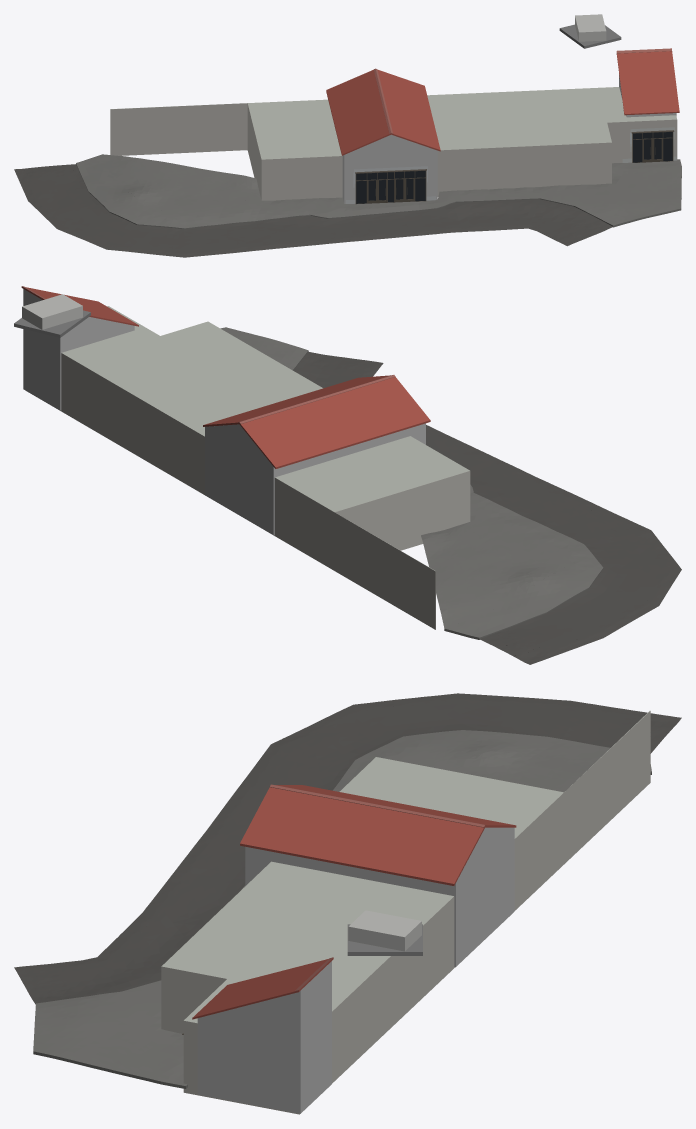
3 views of the same model, one above another, from view 1: azimuth 30°, elevation 25°; view 2: azimuth 150°, elevation 25°; view 3: azimuth 270°, elevation 25° (orthographic). The views are drawn at different scales.
Parts seen in each view (by area): view 1: Ice Arena L0 south strip (LiDAR 115.45 m flat; outline UNVER, KP IceArena SSW walk + entry apron (2020 ortho; UNVERIFIED), KP IceArena SSW drive-aisle asphalt (2020 ortho; UNVERIFIED), KN IceArena red roof 0 (LiDAR 2017 gable, ridge 118.42; mate, KO IceArena east bay entrance storefront (generic; UNVERIFIE, KN IceArena red roof 0 bay walls (LiDAR 2017; UNVERIFIED fac, IceArena_RTU_00 (LiDAR; type UNVERIFIED), KM IceArena RTU_00 curb (to sloped roof; UNVERIFIED); view 2: Ice Arena L0 south strip (LiDAR 115.45 m flat; outline UNVER, KP IceArena SSW drive-aisle asphalt (2020 ortho; UNVERIFIED), KP IceArena SSW walk + entry apron (2020 ortho; UNVERIFIED), KN IceArena red roof 0 (LiDAR 2017 gable, ridge 118.42; mate, KN IceArena red roof 0 bay walls (LiDAR 2017; UNVERIFIED fac, IceArena_RTU_00 (LiDAR; type UNVERIFIED), KM IceArena RTU_00 curb (to sloped roof; UNVERIFIED); view 3: Ice Arena L0 south strip (LiDAR 115.45 m flat; outline UNVER, KP IceArena SSW drive-aisle asphalt (2020 ortho; UNVERIFIED), KN IceArena red roof 0 bay walls (LiDAR 2017; UNVERIFIED fac, KP IceArena SSW walk + entry apron (2020 ortho; UNVERIFIED), KN IceArena red roof 0 (LiDAR 2017 gable, ridge 118.42; mate, IceArena_RTU_00 (LiDAR; type UNVERIFIED), KM IceArena RTU_00 curb (to sloped roof; UNVERIFIED).
Boxes of the visible parts, x1=… form: Ice Arena L0 south strip (LiDAR 115.45 m flat; outline UNVER: x1=110, y1=87, x2=677, y2=200; KP IceArena SSW walk + entry apron (2020 ortho; UNVERIFIED): x1=76, y1=154, x2=681, y2=228; KP IceArena SSW drive-aisle asphalt (2020 ortho; UNVERIFIED): x1=14, y1=164, x2=612, y2=257; KN IceArena red roof 0 (LiDAR 2017 gable, ridge 118.42; mate: x1=326, y1=48, x2=679, y2=155; KO IceArena east bay entrance storefront (generic; UNVERIFIE: x1=355, y1=130, x2=674, y2=204; KN IceArena red roof 0 bay walls (LiDAR 2017; UNVERIFIED fac: x1=342, y1=74, x2=676, y2=203; IceArena_RTU_00 (LiDAR; type UNVERIFIED): x1=575, y1=14, x2=606, y2=41; KM IceArena RTU_00 curb (to sloped roof; UNVERIFIED): x1=559, y1=24, x2=621, y2=48; Ice Arena L0 south strip (LiDAR 115.45 m flat; outline UNVER: x1=28, y1=306, x2=470, y2=629; KP IceArena SSW drive-aisle asphalt (2020 ortho; UNVERIFIED): x1=293, y1=352, x2=681, y2=664; KP IceArena SSW walk + entry apron (2020 ortho; UNVERIFIED): x1=220, y1=327, x2=603, y2=639; KN IceArena red roof 0 (LiDAR 2017 gable, ridge 118.42; mate: x1=21, y1=286, x2=430, y2=468; KN IceArena red roof 0 bay walls (LiDAR 2017; UNVERIFIED fac: x1=23, y1=289, x2=425, y2=535; IceArena_RTU_00 (LiDAR; type UNVERIFIED): x1=22, y1=294, x2=82, y2=329; KM IceArena RTU_00 curb (to sloped roof; UNVERIFIED): x1=14, y1=310, x2=90, y2=337; Ice Arena L0 south strip (LiDAR 115.45 m flat; outline UNVER: x1=161, y1=710, x2=650, y2=1114; KP IceArena SSW drive-aisle asphalt (2020 ortho; UNVERIFIED): x1=14, y1=693, x2=681, y2=1004; KN IceArena red roof 0 bay walls (LiDAR 2017; UNVERIFIED fac: x1=197, y1=827, x2=514, y2=1113; KP IceArena SSW walk + entry apron (2020 ortho; UNVERIFIED): x1=33, y1=730, x2=651, y2=1088; KN IceArena red roof 0 (LiDAR 2017 gable, ridge 118.42; mate: x1=192, y1=784, x2=516, y2=1019; IceArena_RTU_00 (LiDAR; type UNVERIFIED): x1=348, y1=910, x2=421, y2=951; KM IceArena RTU_00 curb (to sloped roof; UNVERIFIED): x1=347, y1=924, x2=422, y2=955.
Size of the model in its own units: 61.94 by 10.52 by 41.54.
